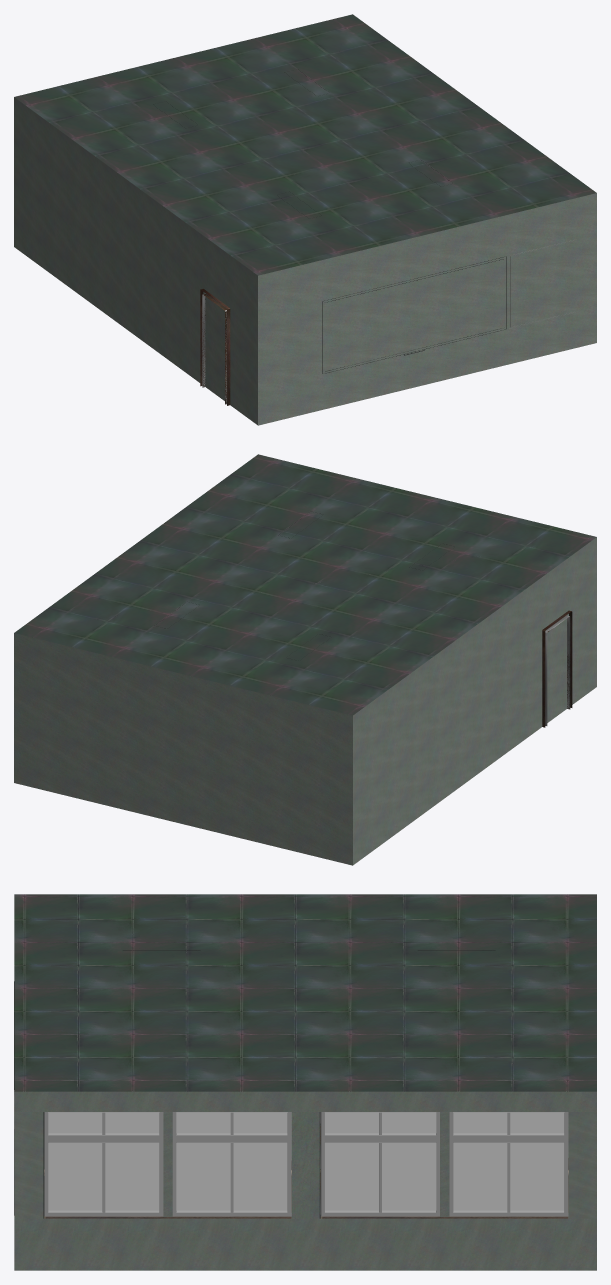
File: Classroom.fbx
The picture shows the model from 3 angles, top to bottom: view 1: azimuth 30°, elevation 25°; view 2: azimuth 150°, elevation 25°; view 3: azimuth 270°, elevation 25°; orthographic projection. The views are drawn at different scales.
Parts seen in each view (by area): view 1: wall, ceilling, Door.001|Door_L_door.blend|Dupli|, Collection|board_L_board.blend|Dupli|; view 2: wall, ceilling, Door.001|Door_L_door.blend|Dupli|; view 3: ceilling, wall, Window.003|Glass_L_Window.blend|Dupli|2, Window.002|Glass_L_Window.blend|Dupli|2, Window.003|Window_L_Window.blend|Dupli|1, Window.002|Window_L_Window.blend|Dupli|1, wall.002, wall.001, Window.002|Wall_L_Window.blend|Dupli|, Window.003|Wall_L_Window.blend|Dupli|, Window.002|WindowWoodPlate_L_Window.blend|Dupli|3, Window.003|WindowWoodPlate_L_Window.blend|Dupli|3.
Boxes of the visible parts, x1,y1,x2,y2 form: wall: (14, 97, 596, 425); ceilling: (14, 14, 596, 275); Door.001|Door_L_door.blend|Dupli|: (200, 288, 230, 405); Collection|board_L_board.blend|Dupli|: (322, 239, 575, 373); wall: (14, 537, 596, 865); ceilling: (14, 454, 596, 715); Door.001|Door_L_door.blend|Dupli|: (542, 610, 572, 727); ceilling: (14, 894, 596, 1091); wall: (14, 1091, 596, 1270); Window.003|Glass_L_Window.blend|Dupli|2: (48, 1112, 287, 1210); Window.002|Glass_L_Window.blend|Dupli|2: (325, 1112, 564, 1210); Window.003|Window_L_Window.blend|Dupli|1: (44, 1112, 291, 1216); Window.002|Window_L_Window.blend|Dupli|1: (321, 1112, 568, 1216); wall.002: (14, 1112, 596, 1218); wall.001: (291, 1112, 320, 1218); Window.002|Wall_L_Window.blend|Dupli|: (440, 1112, 449, 1216); Window.003|Wall_L_Window.blend|Dupli|: (163, 1112, 172, 1216); Window.002|WindowWoodPlate_L_Window.blend|Dupli|3: (321, 1216, 568, 1218); Window.003|WindowWoodPlate_L_Window.blend|Dupli|3: (44, 1216, 291, 1218).
Size of the model in its own units: 811 by 342 by 1004.
